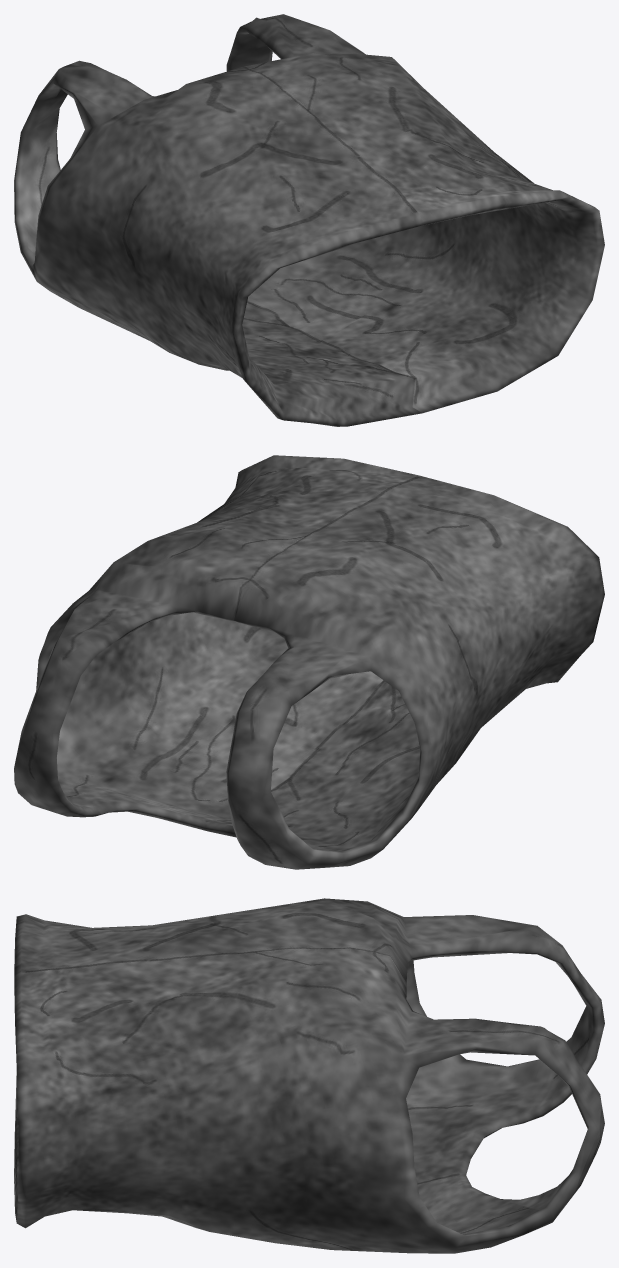
Rendered from armor.fbx.
3 views of the same model, one above another, from view 1: azimuth 30°, elevation 25°; view 2: azimuth 150°, elevation 25°; view 3: azimuth 270°, elevation 25° (orthographic). The views are drawn at different scales.
Visible parts, largest first — view 1: Armor; view 2: Armor; view 3: Armor.
Part boxes in pixels (box(x1,y1,x2,y2)): Armor: box(14, 14, 604, 426); Armor: box(14, 455, 604, 869); Armor: box(14, 898, 604, 1253).
Size of the model in its own units: 2.24 by 1.4 by 2.83.
